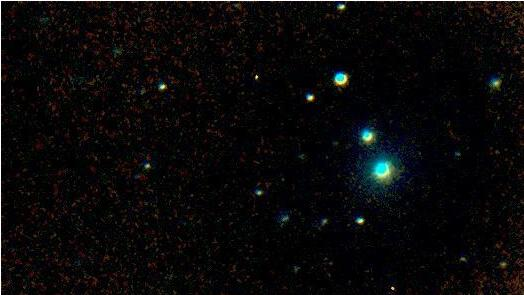star: (483, 135, 513, 165)
